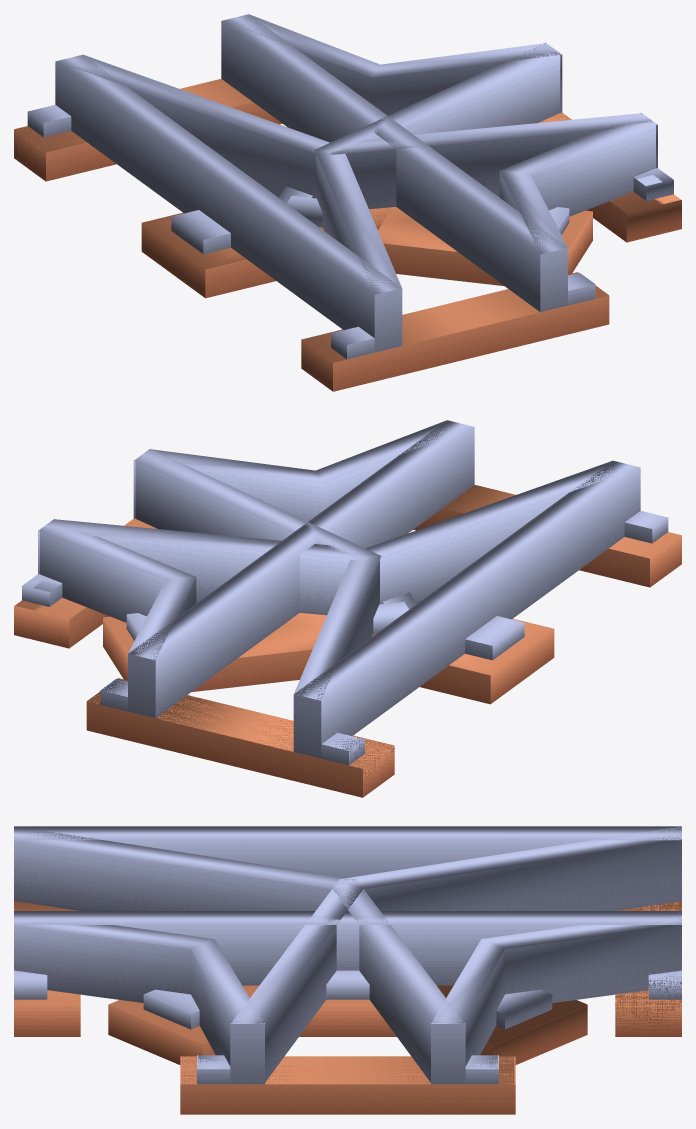
The model's file is cross3.glb.
The picture shows the model from 3 angles, top to bottom: view 1: azimuth 30°, elevation 25°; view 2: azimuth 150°, elevation 25°; view 3: azimuth 270°, elevation 25°; orthographic projection. The views are drawn at different scales.
Visible parts, largest first — view 1: cross3; view 2: cross3; view 3: cross3.
Boxes of the visible parts, x1=… form: cross3: x1=14, y1=14, x2=681, y2=391; cross3: x1=14, y1=420, x2=681, y2=797; cross3: x1=14, y1=826, x2=681, y2=1114.
Bounding box in the file's own units: 0.775 × 0.15 × 1.
Materials: 3 (3 with a texture image).
